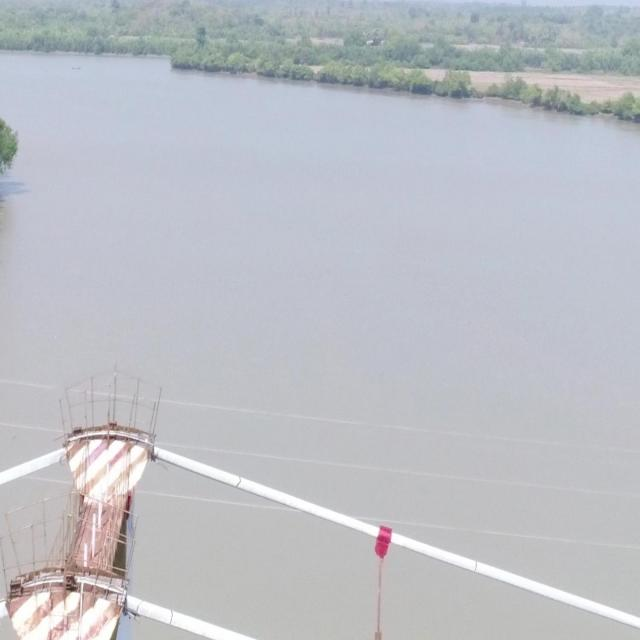crack: (168, 610, 173, 625), (236, 476, 242, 488), (474, 560, 478, 572)
